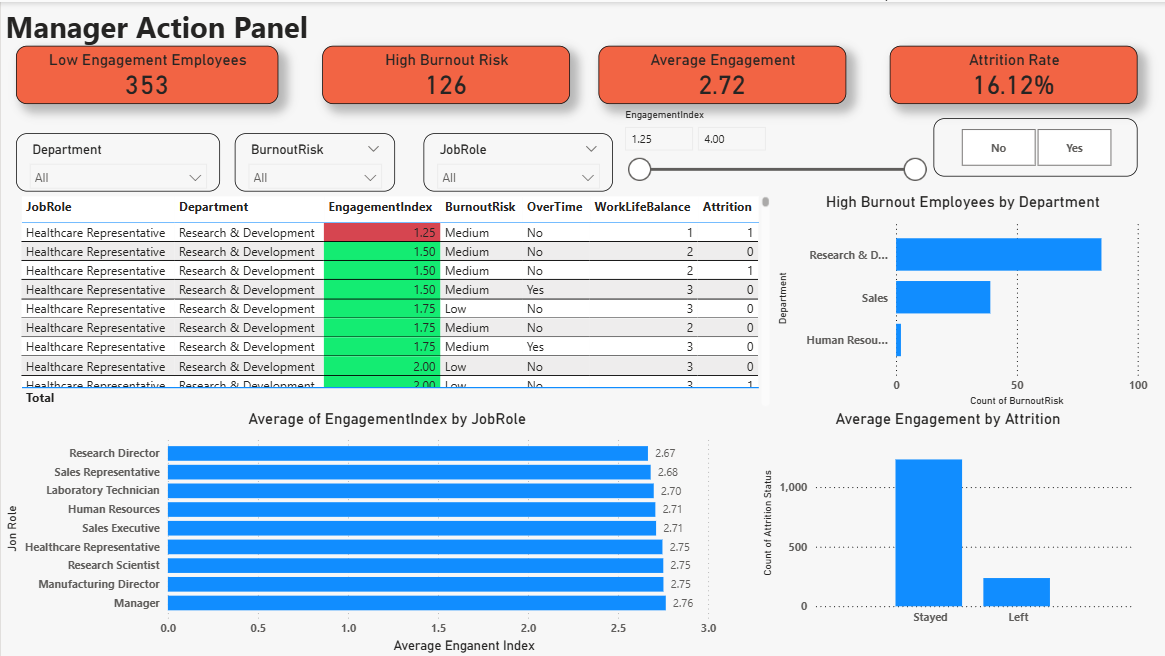

The dashboard page shown, as its layout file describes it:
{"tool":"powerbi","page":{"name":"Page 4","canvas":[1280,720],"ordinal":3},"visuals":[{"type":"card","title":"Low Engagement Employees","fields":{"Values":["Palo_Alto_Cleaned.Low Engagement Employees"]},"box":[16,48,288,64],"z":0},{"type":"card","title":"Attrition Rate","fields":{"Values":["Palo_Alto_Cleaned.Attrition Rate"]},"box":[976,48,272,64],"z":1000},{"type":"card","title":"Average Engagement","fields":{"Values":["Palo_Alto_Cleaned.Average Engagement"]},"box":[656,48,272,64],"z":2000},{"type":"card","title":"High Burnout Risk","fields":{"Values":["Palo_Alto_Cleaned.High Burnout Risk"]},"box":[352,48,272,64],"z":3000},{"type":"slicer","fields":{"Values":["Palo_Alto_Cleaned.Department"]},"box":[16,144,224,64],"z":4000},{"type":"slicer","fields":{"Values":["Palo_Alto_Cleaned.JobRole"]},"box":[464,144,208,64],"z":5000},{"type":"slicer","fields":{"Values":["Palo_Alto_Cleaned.OverTime"]},"box":[1024,128,224,64],"z":6000},{"type":"slicer","fields":{"Values":["Palo_Alto_Cleaned.BurnoutRisk"]},"box":[256,144,176,64],"z":7000},{"type":"tableEx","fields":{"Values":["Palo_Alto_Cleaned.JobRole","Palo_Alto_Cleaned.Department","Palo_Alto_Cleaned.EngagementIndex","Palo_Alto_Cleaned.BurnoutRisk","Palo_Alto_Cleaned.OverTime","Palo_Alto_Cleaned.WorkLifeBalance","Palo_Alto_Cleaned.Attrition"]},"box":[16,208,832,240],"z":8000},{"type":"clusteredBarChart","title":"High Burnout Employees by Department","fields":{"Category":["Palo_Alto_Cleaned.Department"],"Y":["CountNonNull(Palo_Alto_Cleaned.BurnoutRisk)"]},"box":[848,208,416,240],"z":9000},{"type":"clusteredBarChart","fields":{"Category":["Palo_Alto_Cleaned.JobRole"],"Y":["Avg(Palo_Alto_Cleaned.EngagementIndex)"]},"box":[0,448,848,272],"z":10000},{"type":"columnChart","title":"Average Engagement by Attrition","fields":{"Y":["CountNonNull(Palo_Alto_Cleaned.Attrition Status)"],"Category":["Palo_Alto_Cleaned.Attrition Status"]},"box":[832,448,416,256],"z":11000},{"type":"slicer","fields":{"Values":["Palo_Alto_Cleaned.EngagementIndex"]},"box":[672,112,352,96],"z":12000},{"type":"textbox","box":[0,0,752,64],"z":12001}]}

Visuals, with their boxes in screenshot pixels (x1, y1, x2, y2), scaled from the page's 1280x720 canvas onto the 1165x656 screenshot:
"Low Engagement Employees" card: (left=15, top=44, right=277, bottom=102)
"Attrition Rate" card: (left=888, top=44, right=1136, bottom=102)
"Average Engagement" card: (left=597, top=44, right=845, bottom=102)
"High Burnout Risk" card: (left=320, top=44, right=568, bottom=102)
slicer - Palo_Alto_Cleaned.Department: (left=15, top=131, right=218, bottom=190)
slicer - Palo_Alto_Cleaned.JobRole: (left=422, top=131, right=612, bottom=190)
slicer - Palo_Alto_Cleaned.OverTime: (left=932, top=117, right=1136, bottom=175)
slicer - Palo_Alto_Cleaned.BurnoutRisk: (left=233, top=131, right=393, bottom=190)
tableEx - Palo_Alto_Cleaned.JobRole x Palo_Alto_Cleaned.Department: (left=15, top=190, right=772, bottom=408)
"High Burnout Employees by Department" clusteredBarChart: (left=772, top=190, right=1150, bottom=408)
clusteredBarChart - Palo_Alto_Cleaned.JobRole x Avg(Palo_Alto_Cleaned.EngagementIndex): (left=0, top=408, right=772, bottom=655)
"Average Engagement by Attrition" columnChart: (left=757, top=408, right=1136, bottom=641)
slicer - Palo_Alto_Cleaned.EngagementIndex: (left=612, top=102, right=932, bottom=190)
textbox: (left=0, top=0, right=684, bottom=58)
